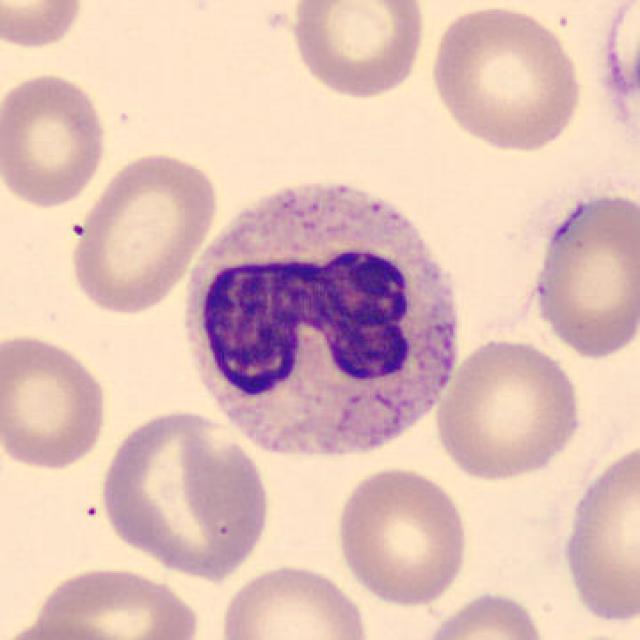Neutrophil: (171, 166, 469, 478)
RBC: (94, 404, 274, 582), (64, 148, 222, 317), (426, 2, 588, 155), (430, 335, 585, 483), (331, 462, 473, 608), (528, 187, 638, 363), (0, 330, 112, 474), (0, 68, 112, 212), (556, 433, 638, 628), (284, 0, 428, 100), (18, 562, 202, 640), (215, 559, 375, 640), (416, 587, 551, 640), (594, 0, 640, 146), (0, 0, 87, 53), (2, 615, 126, 640)
